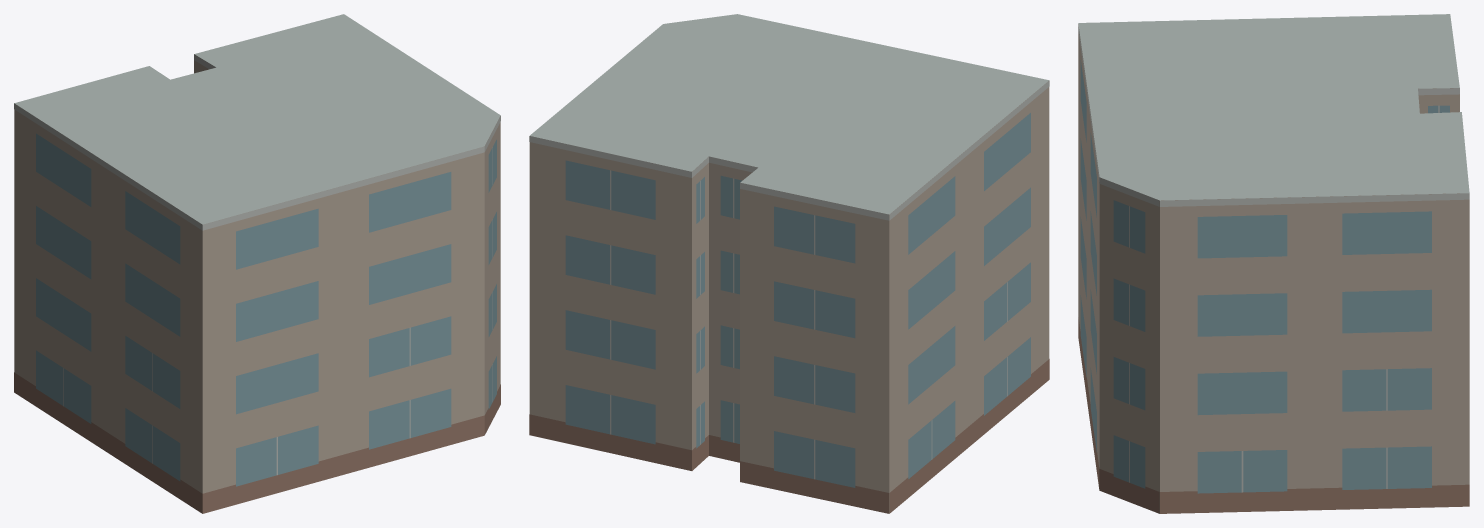
The model's file is survey-upis-32803121.glb.
3 renders of one model, left to right at view 1: azimuth 30°, elevation 25°; view 2: azimuth 150°, elevation 25°; view 3: azimuth 270°, elevation 25°, orthographic. The views are drawn at different scales.
Parts seen in each view (by area): view 1: survey-upis-32803121.tmp; view 2: survey-upis-32803121.tmp; view 3: survey-upis-32803121.tmp.
Boxes of the visible parts, x1,y1,x2,y2 form: survey-upis-32803121.tmp: (14, 14, 500, 513); survey-upis-32803121.tmp: (529, 14, 1049, 513); survey-upis-32803121.tmp: (1078, 14, 1469, 513).
Bounding box in the file's own units: 14.94 × 11.7 × 13.25.
